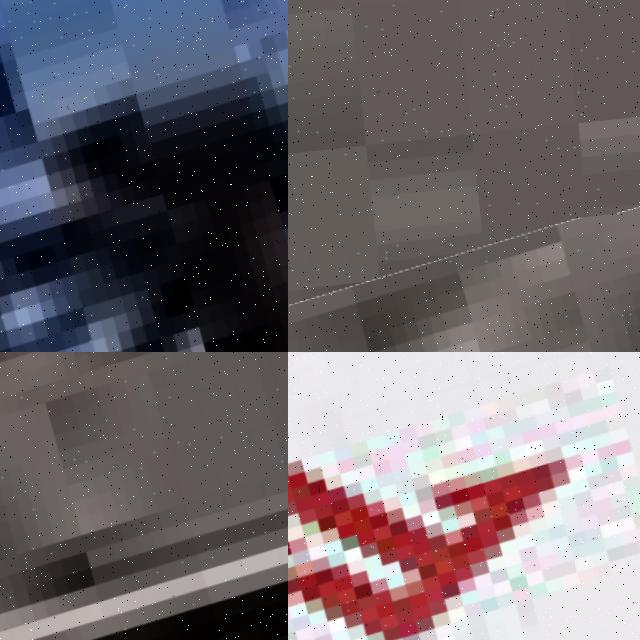drone: (0, 0, 288, 352), (288, 352, 640, 640), (0, 352, 288, 640), (288, 194, 640, 352)
